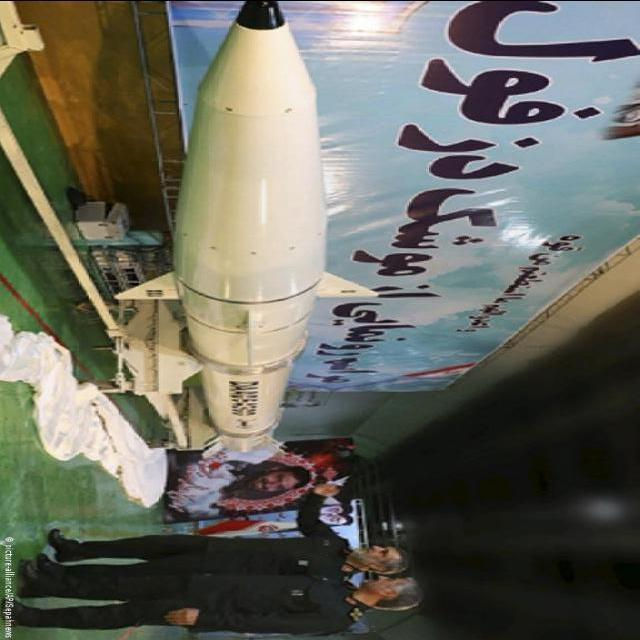Missile: (153, 4, 342, 462)
